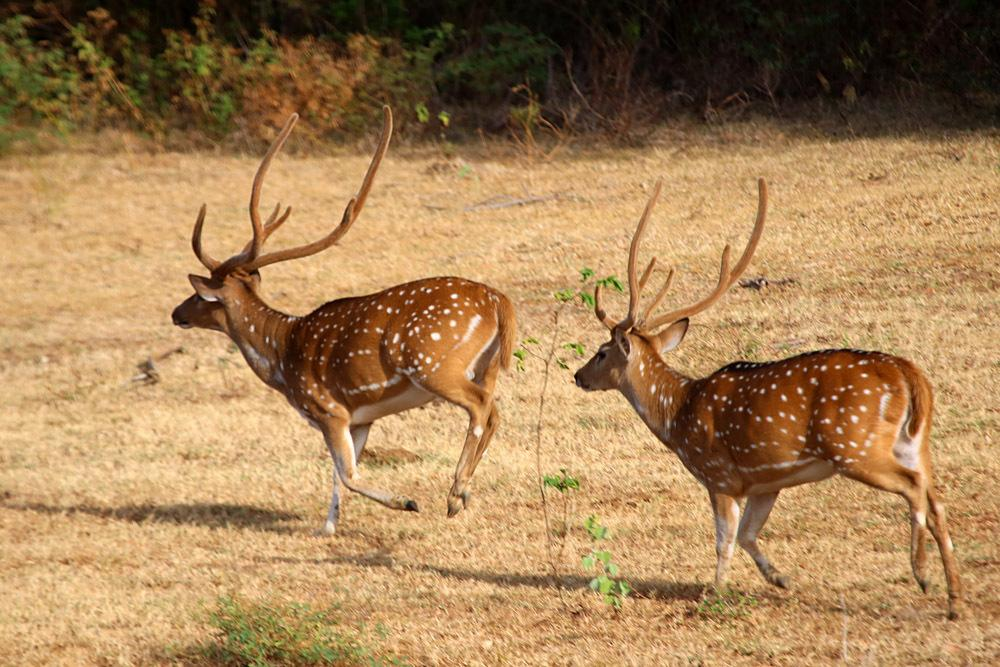Deer: (575, 178, 961, 618), (172, 106, 515, 534)
